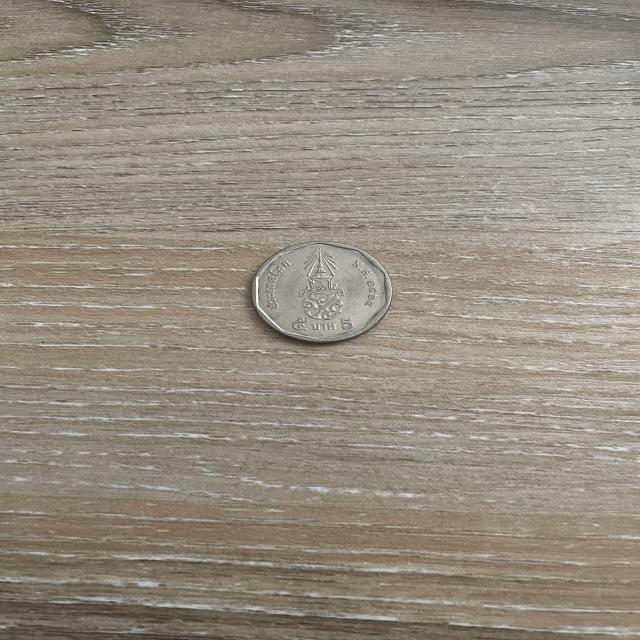5 Bath: (243, 232, 405, 351)
